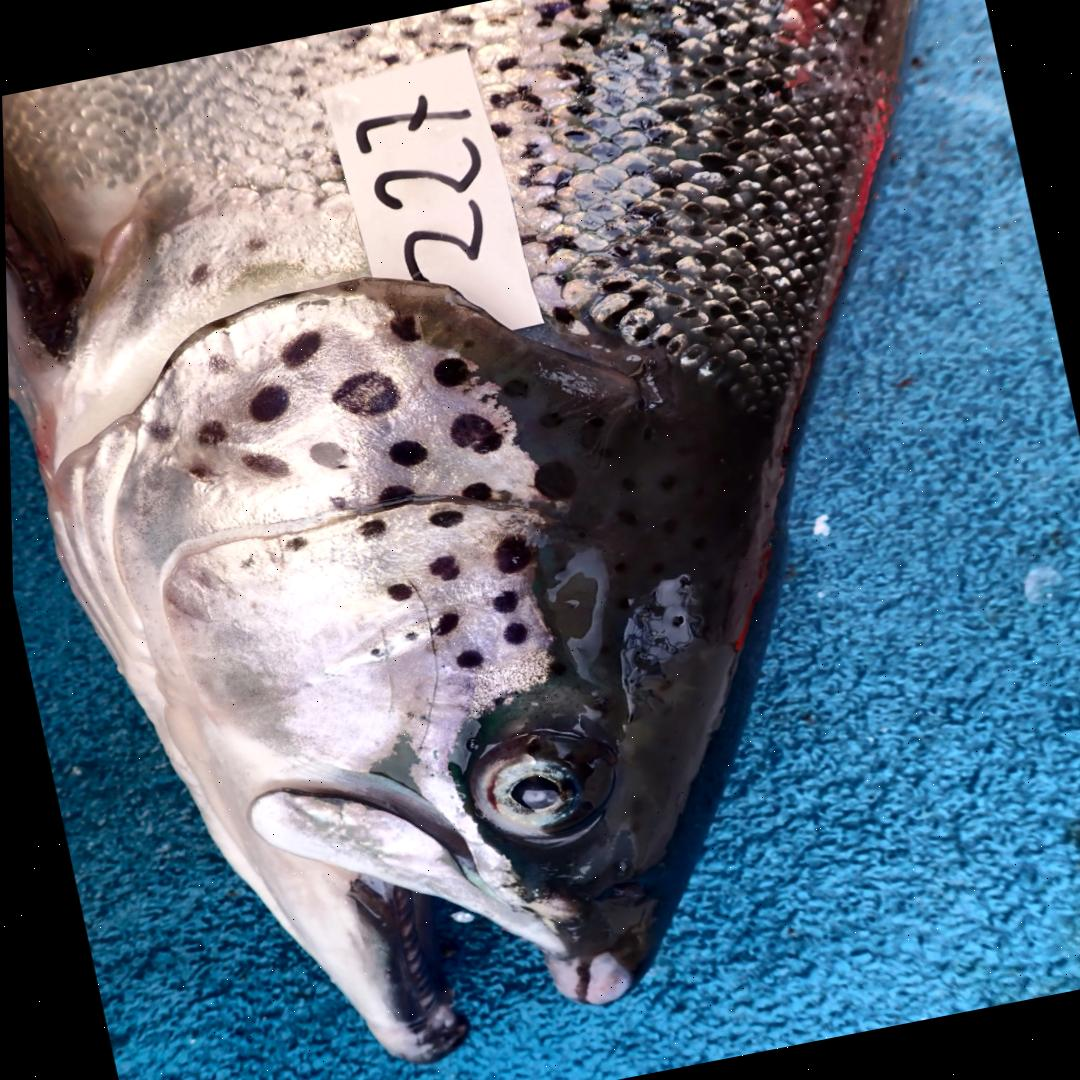spot: (329, 370, 400, 416), (448, 412, 501, 453), (532, 460, 574, 499), (247, 384, 288, 422), (491, 535, 530, 574), (278, 330, 320, 366), (239, 452, 287, 478), (307, 440, 346, 469), (431, 356, 467, 387), (387, 440, 425, 466), (387, 314, 420, 341), (193, 419, 226, 445), (427, 554, 458, 580), (376, 483, 411, 504), (180, 463, 214, 483), (205, 352, 234, 375), (426, 509, 462, 527), (431, 611, 457, 635), (144, 419, 172, 441), (489, 589, 515, 612), (500, 621, 525, 644), (452, 648, 480, 668), (459, 482, 490, 500), (356, 518, 383, 538), (384, 582, 411, 601), (326, 494, 348, 511), (282, 535, 305, 550), (400, 631, 417, 642), (366, 646, 378, 658)
